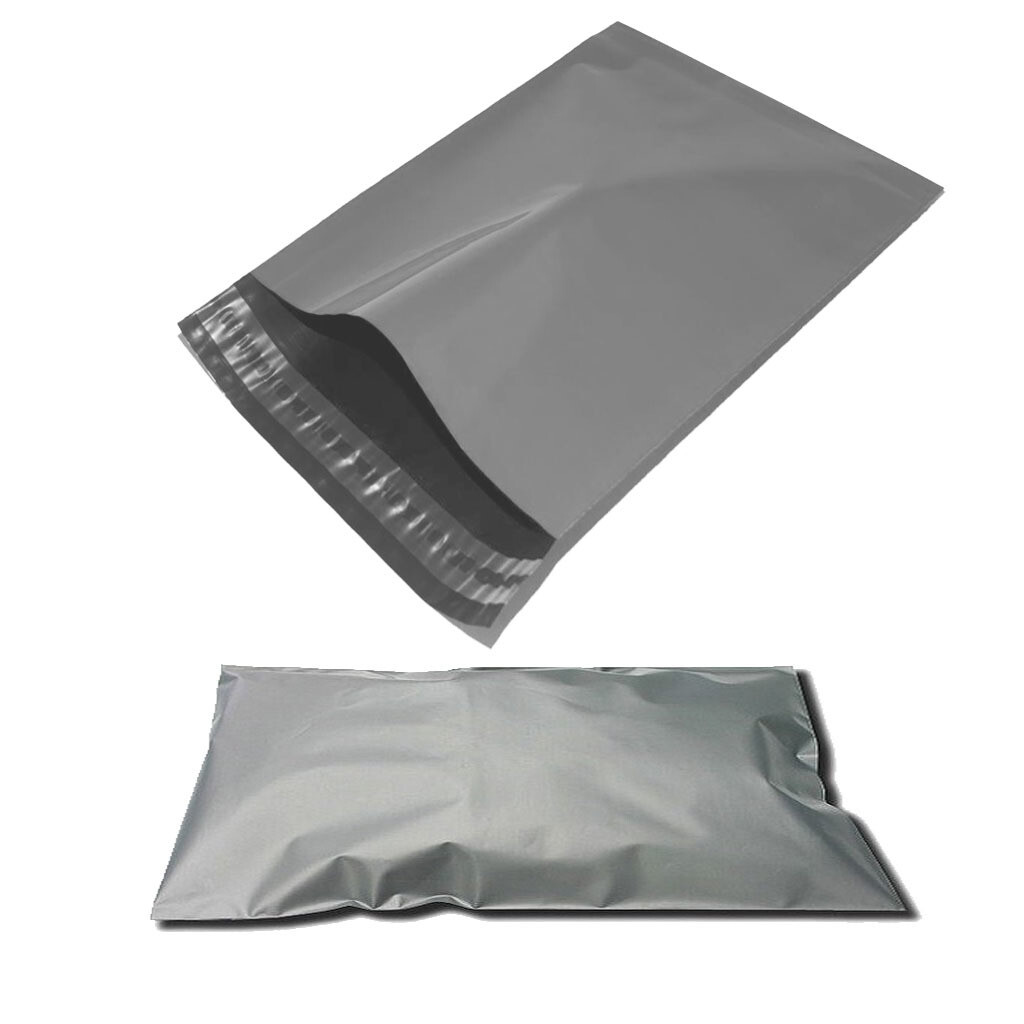塑料袋: (180, 24, 940, 645), (151, 665, 915, 928)
